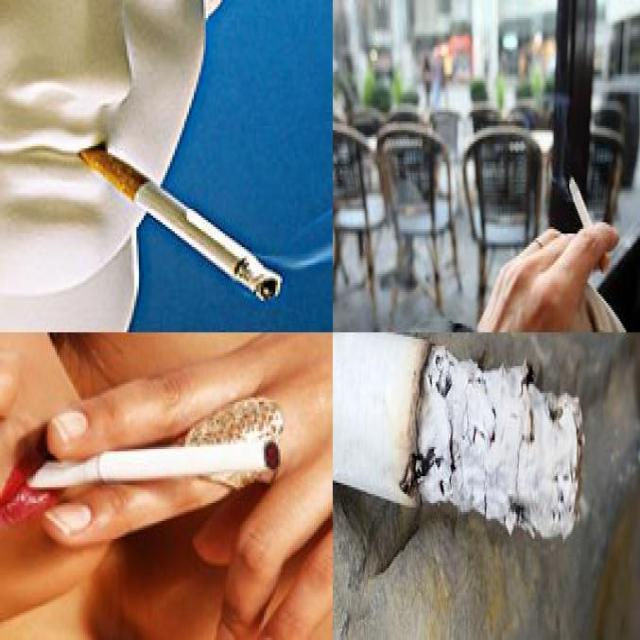smoking: (332, 332, 588, 548), (74, 145, 280, 300), (22, 442, 281, 490), (569, 175, 609, 274)
